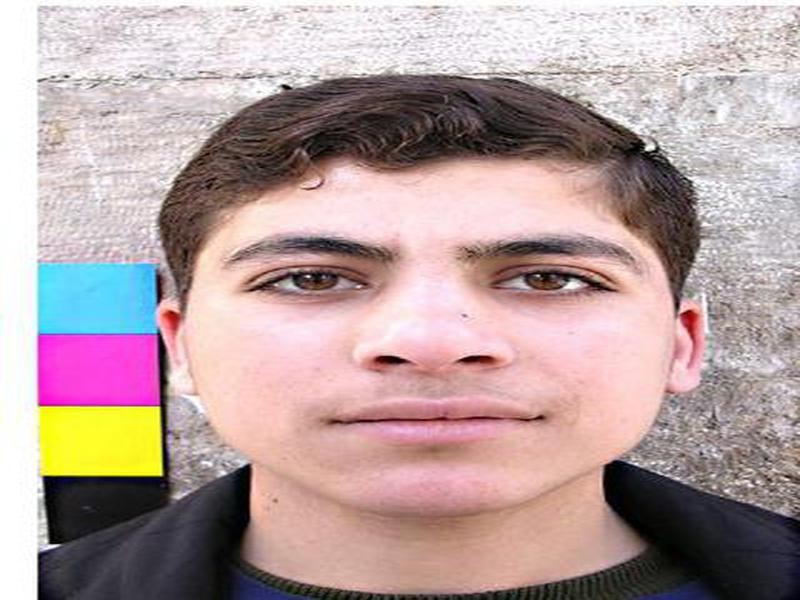without_mask: (182, 155, 665, 518)
